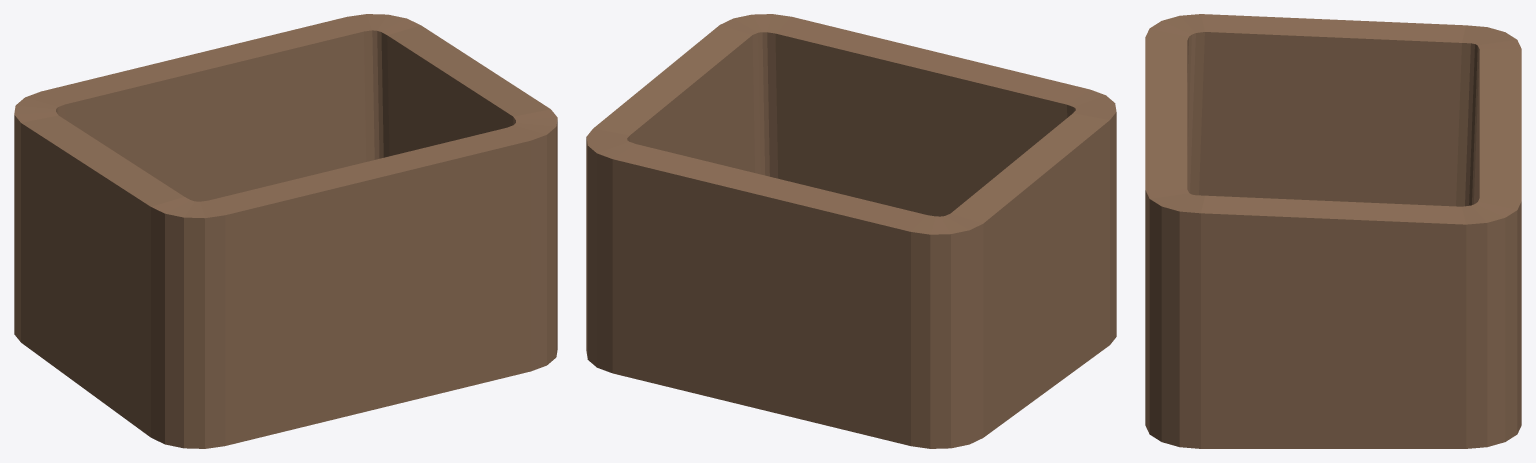
The model's file is TomatoBoxFrontEmpty.fbx.
3 views of the same model, side by side, from view 1: azimuth 30°, elevation 25°; view 2: azimuth 150°, elevation 25°; view 3: azimuth 270°, elevation 25° (orthographic). The views are drawn at different scales.
Parts seen in each view (by area): view 1: FrontBox01; view 2: FrontBox01; view 3: FrontBox01.
Part boxes in pixels (bbox=[...]): FrontBox01: bbox=[14, 14, 557, 448]; FrontBox01: bbox=[586, 14, 1116, 448]; FrontBox01: bbox=[1145, 14, 1521, 448].
Bounding box in the file's own units: 93.85 × 51.74 × 74.87.
